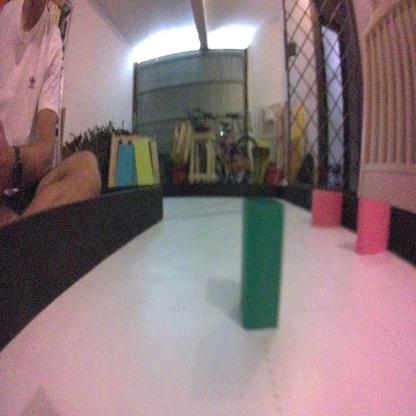magenta: (355, 192, 391, 258), (310, 184, 344, 235)
